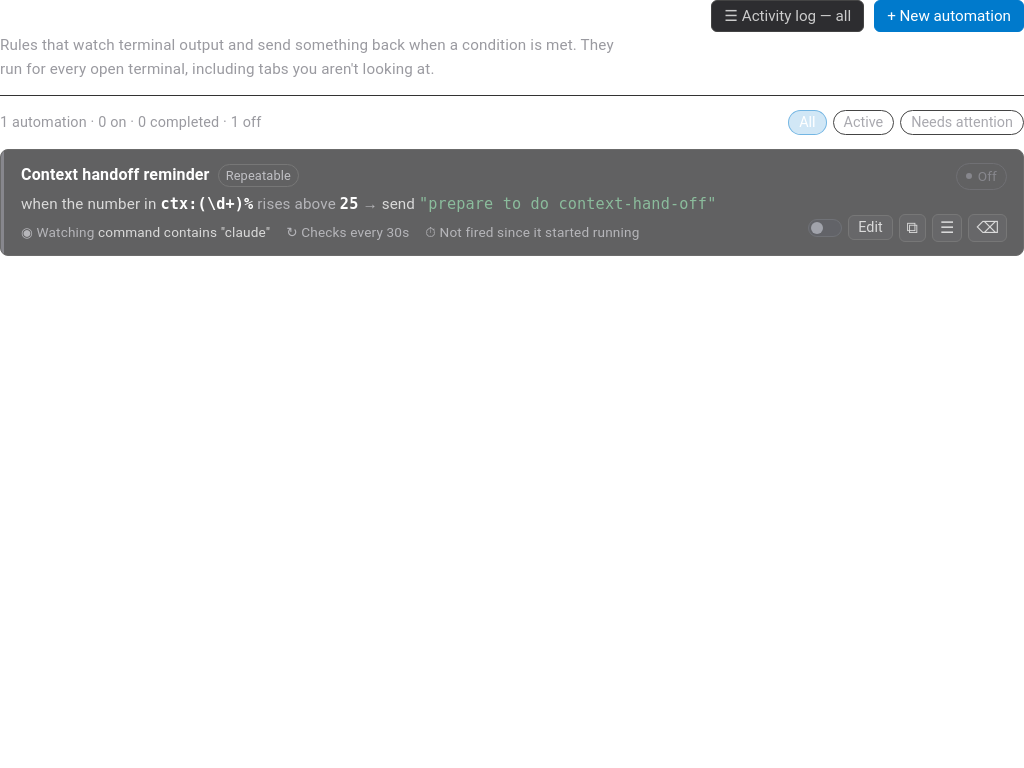
Test: the editor, mounted › opens the settings panel again when a card is clicked
The image size is (1024, 768).
Click the button with class "au-btn" showing "Edit" at (870, 228), box [848,215,893,240]
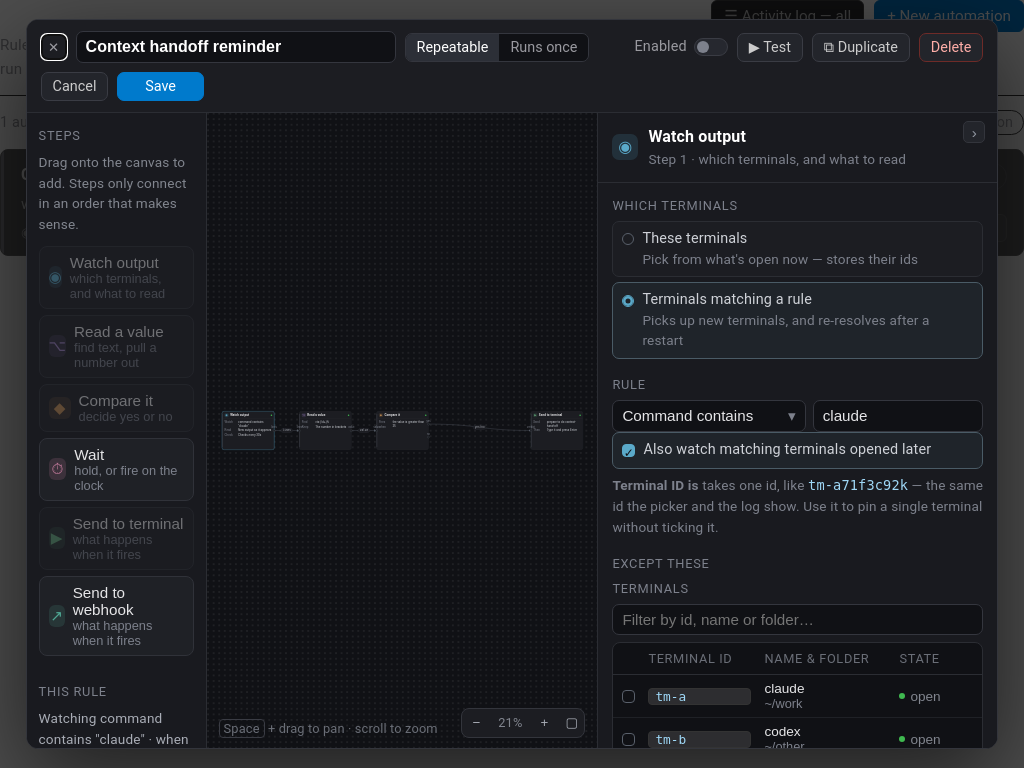
Click the button with class "au-icollapse" at (974, 132), box [963,121,985,143]
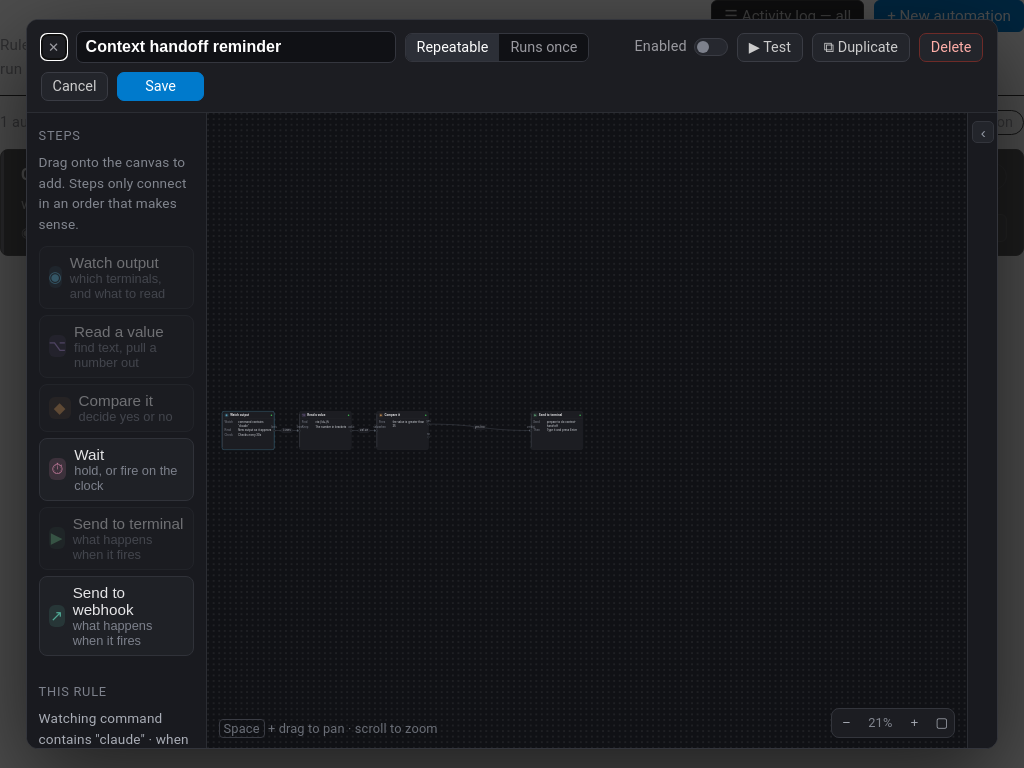
Expected: the element with class "collapsed" is shown, [967,113,997,748]
Expected: the element with class "au-inspect" is gone
Click the element named "Read a value step" at (325, 431), box [299,411,351,450]
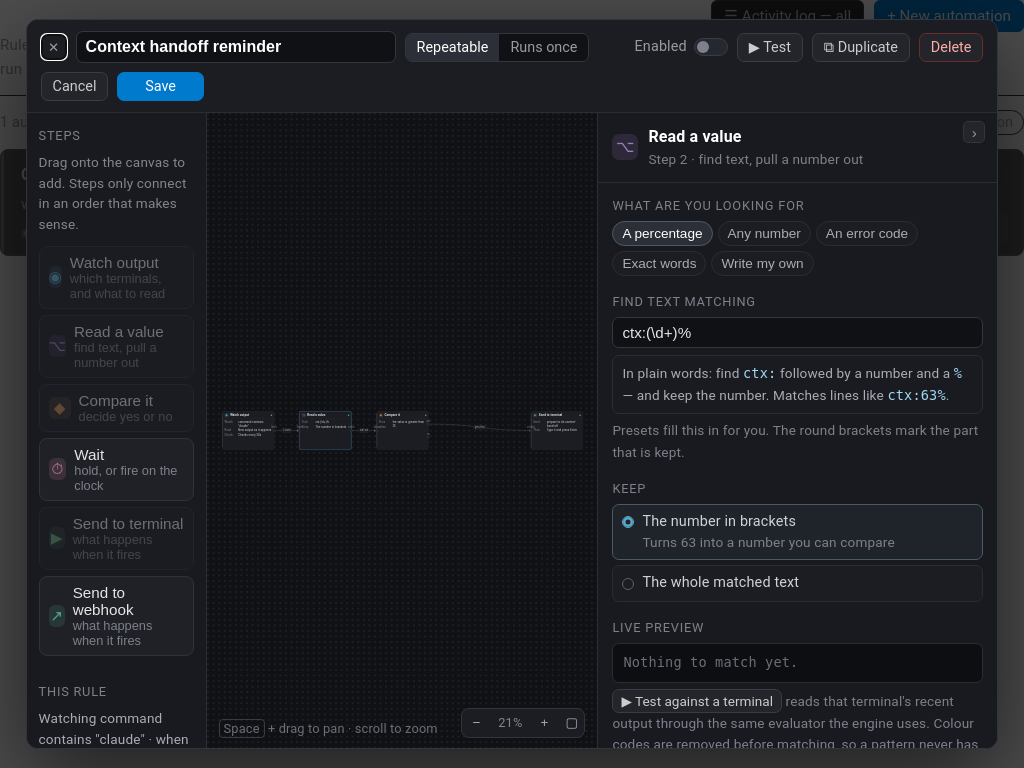
Expected: the element with class "au-inspect" is shown, [598,113,997,748]
